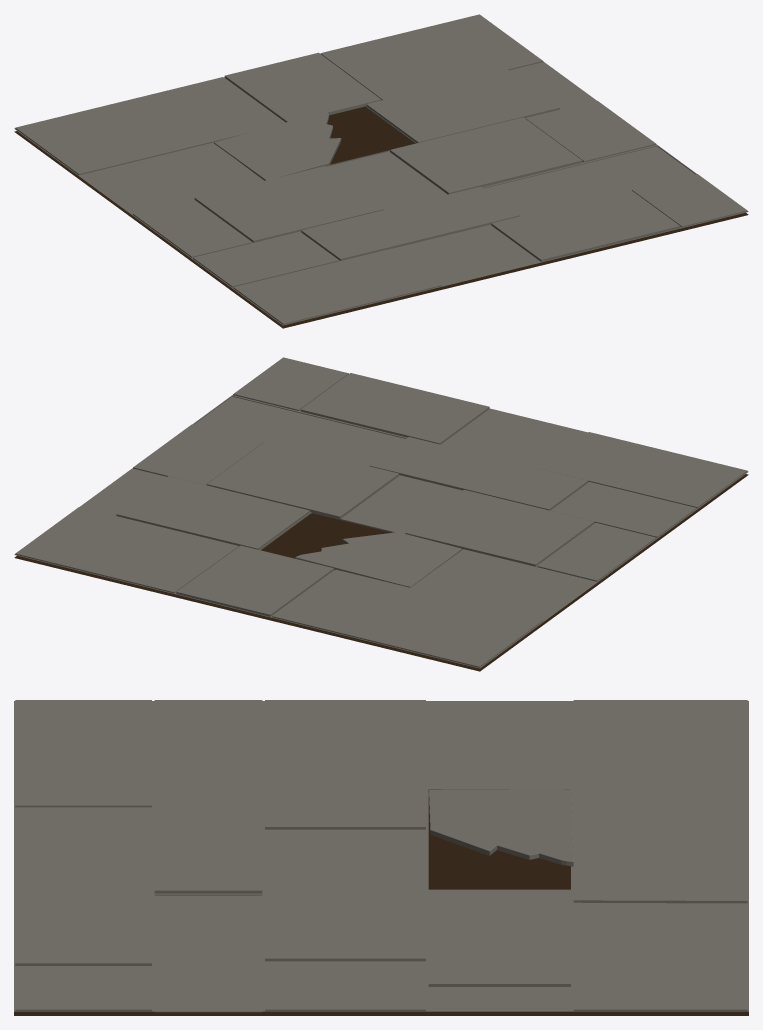
The model's file is Ground_Damage_Test.glb.
The picture shows the model from 3 angles, top to bottom: view 1: azimuth 30°, elevation 25°; view 2: azimuth 150°, elevation 25°; view 3: azimuth 270°, elevation 25°; orthographic projection. The views are drawn at different scales.
Visible parts, largest first — view 1: Ground_Damage_Test, Ground_Underlay_A, Broken_Slab_B; view 2: Ground_Damage_Test, Ground_Underlay_A, Broken_Slab_B; view 3: Ground_Damage_Test, Broken_Slab_B, Ground_Underlay_A.
Boxes of the visible parts, left/top/right/bottom form: Ground_Damage_Test: left=14, top=14, right=748, bottom=325; Ground_Underlay_A: left=14, top=106, right=748, bottom=328; Broken_Slab_B: left=214, top=111, right=341, bottom=180; Ground_Damage_Test: left=14, top=357, right=748, bottom=668; Ground_Underlay_A: left=14, top=474, right=748, bottom=671; Broken_Slab_B: left=295, top=532, right=461, bottom=587; Ground_Damage_Test: left=14, top=700, right=748, bottom=1012; Broken_Slab_B: left=428, top=789, right=573, bottom=866; Ground_Underlay_A: left=14, top=797, right=748, bottom=1015.
Bounding box in the file's own units: 8 × 0.1139 × 8.
